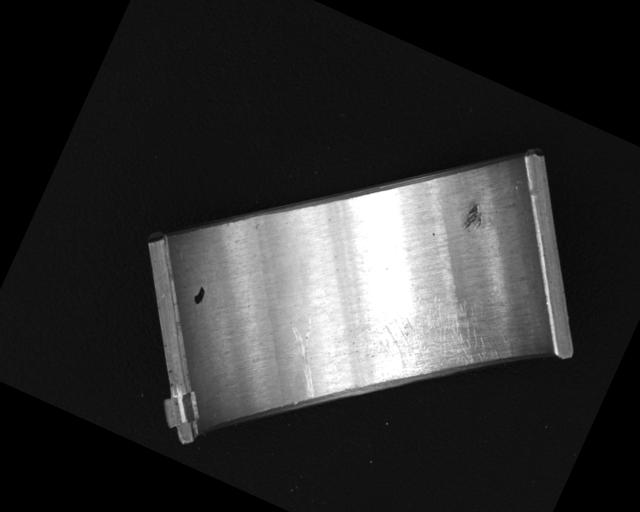blot: (191, 284, 209, 307)
bruise: (457, 200, 488, 237)
nick: (268, 310, 345, 400)
scratch: (347, 265, 523, 422)
